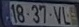1: (9, 3, 18, 24)
3: (30, 4, 40, 24)
7: (38, 4, 47, 25)
8: (15, 3, 26, 23)
L: (61, 6, 71, 26)
V: (51, 5, 61, 25)
